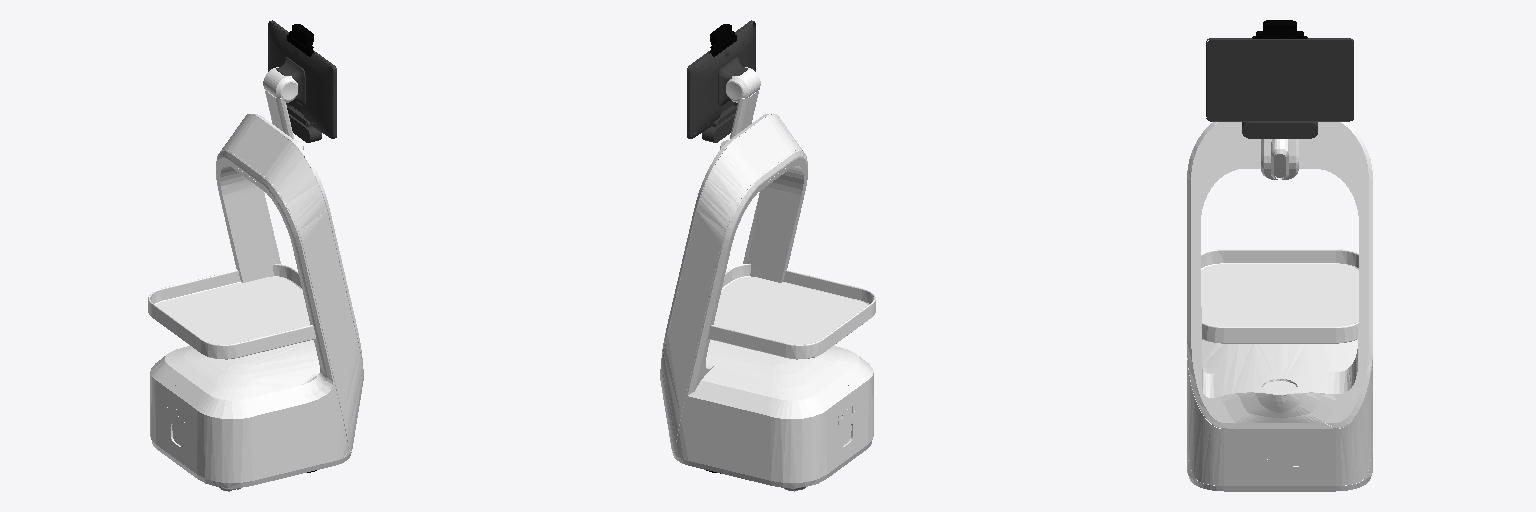
URDF robot description (robocat):
<?xml version="1.0" ?><!-- =================================================================================== --><!-- |    This document was autogenerated by xacro from /opt/pal/alum/share/robocat_description/robots/robocat.urdf.xacro | --><!-- |    EDITING THIS FILE BY HAND IS NOT RECOMMENDED                                 | --><!-- =================================================================================== --><!--
Copyright (c) 2026 PAL Robotics S.L. All rights reserved. Licensed under the Apache License, Version 2.0 (the "License"); you may not use this file except in compliance with the License. You may obtain a copy of the License at
http://www.apache.org/licenses/LICENSE-2.0
Unless required by applicable law or agreed to in writing, software distributed under the License is distributed on an "AS IS" BASIS, WITHOUT WARRANTIES OR CONDITIONS OF ANY KIND, either express or implied. See the License for the specific language governing permissions and limitations under the License. --><robot name="robocat"><material name="Blue"><color rgba="0.0 0.0 0.8 1.0"/></material><material name="Green"><color rgba="0.0 0.8 0.0 1.0"/></material><material name="Grey"><color rgba="0.7 0.7 0.7 1.0"/></material><material name="LightGrey"><color rgba="0.9 0.9 0.9 1.0"/></material><material name="DarkGrey"><color rgba="0.1 0.1 0.1 1.0"/></material><material name="Red"><color rgba="0.8 0.0 0.0 1.0"/></material><material name="White"><color rgba="1.0 1.0 1.0 1.0"/></material><material name="Yellow"><color rgba="0.96 0.88 0.14 1.0"/></material><material name="Black"><color rgba="0.0 0.0 0.0 1.0"/></material><material name="FlatBlack"><color rgba="0.09 0.09 0.09 1.0"/></material><material name="Orange"><color rgba="1.0 0.487 0.0 1.0"/></material><material name="pal/Orange"><color rgba="0.91373 0.61568 0.29411 1.0"/></material><material name="pal/DarkGrey"><color rgba="0.29804 0.29804 0.29804 1"/></material><ros2_control name="ros2_control_robocat_system" type="system"><hardware><plugin>robot_control/RobotControl</plugin></hardware><joint name="wheel_right_joint"><command_interface name="velocity"/><state_interface name="position"/></joint><transmission name="wheel_right_trans"><plugin>transmission_interface/SimpleTransmission</plugin><actuator name="wheel_right_actuator" role="actuator1"/><joint name="wheel_right_joint" role="joint1"><mechanical_reduction>1.0</mechanical_reduction><offset>0.0</offset></joint></transmission><joint name="wheel_left_joint"><command_interface name="velocity"/><state_interface name="position"/></joint><transmission name="wheel_left_trans"><plugin>transmission_interface/SimpleTransmission</plugin><actuator name="wheel_left_actuator" role="actuator1"/><joint name="wheel_left_joint" role="joint1"><mechanical_reduction>1.0</mechanical_reduction><offset>0.0</offset></joint></transmission><joint name="head_joint"><command_interface name="position"/><state_interface name="position"/><state_interface name="velocity"/><state_interface name="effort"/></joint><transmission name="head_trans"><plugin>transmission_interface/SimpleTransmission</plugin><actuator name="head_actuator" role="actuator1"/><joint name="head_joint" role="joint1"><offset>0.0</offset><mechanicalReduction>1</mechanicalReduction></joint></transmission></ros2_control><!-- BASE LINK --><link name="base_link"><inertial><origin rpy="0 0 0" xyz="-0.06303 0.0001 0.13708"/><mass value="29.37245"/><inertia ixx="2.189436" ixy="-0.002431" ixz="-0.262195" iyy="2.193107" iyz="-0.010879" izz="0.645577"/></inertial><visual><origin rpy="0 0 0" xyz="0 0 0"/><geometry><mesh filename="package://robocat_description/meshes/robocat_base_link.obj"/></geometry><material name=""><color rgba="1 1 1 1"/></material></visual><collision><origin rpy="0 0 0" xyz="0 0 0"/><geometry><mesh filename="package://robocat_description/meshes/collisions/base_link_collision.stl"/></geometry><material name=""><color rgba="1 1 1 1"/></material></collision></link><!-- DOCKING LINK --><link name="docking_link"/><joint name="docking_joint" type="fixed"><parent link="base_link"/><child link="docking_link"/><origin rpy="0 0 6.283185307179586" xyz="-0.29 0 0.030539"/></joint><!-- Caster wheel characteristics --><link name="wheel_right_link"><inertial><origin rpy="0 0 0" xyz="-6.7466E-06 0.00019427 -1.3878E-17"/><mass value="1.82362"/><inertia ixx="0.00499743171" ixy="4.464e-08" ixz="-0.00000002245" iyy="0.00499741733" iyz="-1.64e-09" izz="0.00839239692"/></inertial><visual><origin rpy="0 0 0" xyz="0 0 0"/><geometry><mesh filename="package://robocat_description/meshes/robocat_front_wheel.stl"/></geometry><material name="Black"/></visual><collision><origin rpy="0 0 0" xyz="0 0 0"/><geometry><cylinder length="0.05" radius="0.10"/></geometry></collision><kinematic>0</kinematic><gravity>1</gravity></link><joint name="wheel_right_joint" type="continuous"><parent link="base_link"/><child link="wheel_right_link"/><origin rpy="1.5707963267948966 0 0" xyz="0 -0.125 0"/><axis xyz="0 0 -1"/><limit effort="6.0" velocity="100.0"/></joint><link name="wheel_left_link"><inertial><origin rpy="0 0 0" xyz="-6.7466E-06 0.00019427 -1.3878E-17"/><mass value="1.82362"/><inertia ixx="0.00499743171" ixy="-4.464e-08" ixz="-0.00000002245" iyy="0.00499741733" iyz="1.64e-09" izz="0.00839239692"/></inertial><visual><origin rpy="0 0 0" xyz="0 0 0"/><geometry><mesh filename="package://robocat_description/meshes/robocat_front_wheel.stl"/></geometry><material name="Black"/></visual><collision><origin rpy="0 0 0" xyz="0 0 0"/><geometry><cylinder length="0.05" radius="0.10"/></geometry></collision><kinematic>0</kinematic><gravity>1</gravity></link><joint name="wheel_left_joint" type="continuous"><parent link="base_link"/><child link="wheel_left_link"/><origin rpy="1.5707963267948966 0 0" xyz="0 0.125 0"/><axis xyz="0 0 -1"/><limit effort="6.0" velocity="100.0"/></joint><link name="caster_right_link"><inertial><origin rpy="0 0 0" xyz="1.4445e-06 0.016213 -0.00019766"/><mass value="0.24242"/><inertia ixx="0.0002099" ixy="-5.5806e-09" ixz="-6.9375E-11" iyy="0.00020239" iyz="-2.6771e-09" izz="0.00025496"/></inertial><visual><origin rpy="0 0 0" xyz="0 0 0"/><geometry><mesh filename="package://robocat_description/meshes/robocat_caster_wheel_link.stl"/></geometry><material name="Grey"/></visual><collision><origin rpy="0 0 0" xyz="0 0 0"/><geometry><mesh filename="package://robocat_description/meshes/collisions/rear_wheel.stl"/></geometry></collision></link><joint name="caster_right_joint" type="fixed"><parent link="base_link"/><child link="caster_right_link"/><origin rpy="1.5707963267948966 0 0" xyz="-0.217 -0.132 -0.0391"/><axis xyz="0 0 -1"/></joint><gazebo reference="caster_right_link"><kp>1000000.0</kp><kd>1000.0</kd><mu1>0.01</mu1><mu2>0.01</mu2><fdir1>1 0 0</fdir1><maxVel>1.0</maxVel><minDepth>0.00</minDepth><implicitSpringDamper>0</implicitSpringDamper><material>Gazebo/DarkGrey</material></gazebo><link name="caster_left_link"><inertial><origin rpy="0 0 0" xyz="-1.4445e-06 0.016213 0.00019766"/><mass value="0.24242"/><inertia ixx="0.0002099" ixy="5.5806e-09" ixz="-6.9375E-11" iyy="0.00020239" iyz="2.6771e-09" izz="0.00025496"/></inertial><visual><origin rpy="0 0 0" xyz="0 0 0"/><geometry><mesh filename="package://robocat_description/meshes/robocat_caster_wheel_link.stl"/></geometry><material name="Grey"/></visual><collision><origin rpy="0 0 0" xyz="0 0 0"/><geometry><mesh filename="package://robocat_description/meshes/collisions/rear_wheel.stl"/></geometry></collision></link><joint name="caster_left_joint" type="fixed"><parent link="base_link"/><child link="caster_left_link"/><origin rpy="1.5707963267948966 0 0" xyz="-0.217 0.132 -0.0391"/><axis xyz="0 0 -1"/></joint><gazebo reference="caster_left_link"><kp>1000000.0</kp><kd>1000.0</kd><mu1>0.01</mu1><mu2>0.01</mu2><fdir1>1 0 0</fdir1><maxVel>1.0</maxVel><minDepth>0.00</minDepth><implicitSpringDamper>0</implicitSpringDamper><material>Gazebo/DarkGrey</material></gazebo><!-- BASE FOOTPRINT --><link name="base_footprint"/><joint name="base_footprint_joint" type="fixed"><origin rpy="0 0 0" xyz="0 0 0.1"/><parent link="base_footprint"/><child link="base_link"/></joint><material name="aluminum"><color rgba="0.5 0.5 0.5 1"/></material><material name="plastic"><color rgba="0.1 0.1 0.1 1"/></material><!-- HEAD LINK --><link name="head_link"><inertial><mass value="0.01"/><origin xyz="0 0 0"/></inertial></link><joint name="head_joint" type="revolute"><origin rpy="-1.5707963267948966 0 0" xyz="0.0 0.0 0.878"/><parent link="base_link"/><child link="head_link"/><axis xyz="0 0 -1"/><limit effort="5.197" lower="0" upper="45" velocity="3.0"/><dynamics damping="0.5" friction="1.0"/><safety_controller k_position="20" k_velocity="20" soft_lower_limit="0.07" soft_upper_limit="0.7153981633974482"/></joint><gazebo reference="head_joint"><implicitSpringDamper>1</implicitSpringDamper></gazebo><!-- SCREEN LINK --><link name="screen_link"><inertial><origin rpy="0 0 0" xyz="0.02 0.027 0"/><mass value="0.377"/><inertia ixx="0.004256348" ixy="0.0" ixz="0.0" iyx="0.0" iyy="0.003084239" iyz="0.0" izx="0.0" izy="0.0" izz="0.001218049"/></inertial><visual><origin rpy="0 0 0" xyz="0 0 0"/><geometry><mesh filename="package://robocat_description/meshes/robocat_screen.obj"/></geometry><material name=""><color rgba="0.29804 0.29804 0.29804 1"/></material></visual><collision><origin rpy="0 0 0" xyz="-0.04 0.025 0.0"/><geometry><mesh filename="package://robocat_description/meshes/collisions/robocat_screen.stl"/></geometry></collision></link><joint name="screen_joint" type="fixed"><origin rpy="0 0 0" xyz="0.04 -0.027 0"/><parent link="head_link"/><child link="screen_link"/></joint><link name="elo_link"><inertial><origin rpy="1.57 0 0" xyz="0 0 0.0155 "/><mass value="0.095566"/><inertia ixx="0.00006208" ixy="0" ixz="0" iyy="0.000035021" iyz="0" izz="0.00003341"/></inertial><visual><origin rpy="1.57 0 0" xyz="0.0 0.0 0.0 "/><geometry><mesh filename="package://robocat_description/meshes/robocat_elo_camera.stl"/></geometry><material name=""><color rgba="0.05 0.05 0.05 1"/></material></visual></link><joint name="elo_joint" type="fixed"><origin rpy="0 0 0" xyz="0.018 -0.0625 0.0 "/><parent link="screen_link"/><child link="elo_link"/></joint><gazebo reference="elo_link"><material>Gazebo/FlatBlack</material><sensor name="elo_camera_sim" type="camera"><always_on>true</always_on><update_rate>30</update_rate><camera><horizontal_fov>1.047</horizontal_fov><image><width>640</width><height>480</height><format>R8G8B8</format></image><clip><near>0.01</near><far>10</far></clip></camera><plugin filename="libgazebo_ros_camera.so" name="elo"/></sensor></gazebo><link name="elo_lens_link"><inertial><origin rpy="0 0 0" xyz="0.006 -0.033 0.010968"/></inertial></link><joint name="elo_lens_joint" type="fixed"><origin rpy="0 1.57 0" xyz="0.006 -0.033 0.010968"/><parent link="elo_link"/><child link="elo_lens_link"/></joint><link name="sellion_link"/><joint name="sellion_joint" type="fixed"><origin rpy="1.5708 0 0" xyz="0 0 0"/><child link="sellion_link"/><parent link="screen_link"/></joint><link name="eye_right_link"/><joint name="eye_right_joint" type="fixed"><origin rpy="0 0 0" xyz="0.0 -0.1 0"/><child link="eye_right_link"/><parent link="sellion_link"/></joint><link name="eye_left_link"/><joint name="eye_left_joint" type="fixed"><origin rpy="0 0 0" xyz="0 0.1 0"/><child link="eye_left_link"/><parent link="sellion_link"/></joint><!-- SENSORS--><!-- camera body, with origin at bottom screw mount --><joint name="front_camera_joint" type="fixed"><origin rpy="1.5707963267948966 0.4363323129985824 0" xyz="0.0265 0.012 0.669"/><parent link="base_link"/><child link="front_camera_bottom_screw_frame"/></joint><link name="front_camera_bottom_screw_frame"/><joint name="front_camera_link_joint" type="fixed"><origin rpy="0 0 0" xyz="0.010600000000000002 0.0175 0.0125"/><parent link="front_camera_bottom_screw_frame"/><child link="front_camera_link"/></joint><link name="front_camera_link"><visual><!-- the mesh origin is at front plate in between the two infrared camera axes --><origin rpy="1.5707963267948966 0 1.5707963267948966" xyz="0.0043 -0.0175 0"/><geometry><mesh filename="file:///opt/ros/humble/share/realsense2_description/meshes/d435.dae"/></geometry></visual><collision><origin rpy="0 0 0" xyz="0 -0.0175 0"/><geometry><box size="0.02505 0.09 0.025"/></geometry></collision><inertial><!-- The following are not reliable values, and should not be used for modeling --><mass value="0.072"/><origin xyz="0 0 0"/><inertia ixx="0.003881243" ixy="0.0" ixz="0.0" iyy="0.000498940" iyz="0.0" izz="0.003879257"/></inertial></link><gazebo reference="front_camera_link"><sensor name="front_camera" type="depth"><camera name="front_camera"><horizontal_fov>1.4870205226991688</horizontal_fov><vertical_fov>1.0122909661567112</vertical_fov><always_on>true</always_on><update_rate>30</update_rate><visualize>true</visualize><image><format>B8G8R8</format><width>848</width><height>480</height></image><clip><near>0.3</near><far>3.0</far></clip><noise><type>gaussian</type><mean>0.0</mean><stddev>0.100</stddev></noise></camera><plugin filename="libgazebo_ros_camera.so" name="front_camera"><frame_name>front_camera_depth_optical_frame</frame_name><min_depth>0.1</min_depth><max_depth>10.0</max_depth><ros><namespace></namespace><remapping>front_camera/image_raw:=front_camera/color/image_raw</remapping><remapping>front_camera/camera_info:=front_camera/color/camera_info</remapping><remapping>front_camera/image_raw/compressed:=front_camera/color/image_raw/compressed</remapping><remapping>front_camera/image_raw/compressedDepth:=front_camera/color/image_raw/compressedDepth</remapping><remapping>front_camera/image_raw/theora:=front_camera/color/image_raw/theora</remapping><remapping>front_camera/points:=front_camera/depth/color/points</remapping><remapping>front_camera/depth/image_raw:=front_camera/depth/image_rect_raw</remapping><remapping>front_camera/depth/image_raw/compressed:=front_camera/depth/image_rect_raw/compressed</remapping><remapping>front_camera/depth/image_raw/compressedDepth:=front_camera/depth/image_rect_raw/compressedDepth</remapping><remapping>front_camera/depth/image_raw/theora:=front_camera/depth/image_rect_raw/theora</remapping><qos><topic name="front_camera/color/image_raw"><publisher><reliability>best_effort</reliability><durability>volatile</durability><history depth="1">keep_last</history><liveliness>automatic</liveliness></publisher></topic><topic name="front_camera/color/camera_info"><publisher><reliability>best_effort</reliability><durability>volatile</durability><history depth="1">keep_last</history><liveliness>automatic</liveliness></publisher></topic><topic name="front_camera/color/image_raw/compressed"><publisher><reliability>best_effort</reliability><durability>volatile</durability><history depth="1">keep_last</history><liveliness>automatic</liveliness></publisher></topic><topic name="front_camera/color/image_raw/compressedDepth"><publisher><reliability>best_effort</reliability><durability>volatile</durability><history depth="1">keep_last</history><liveliness>automatic</liveliness></publisher></topic><topic name="front_camera/color/image_raw/theora"><publisher><reliability>best_effort</reliability><durability>volatile</durability><history depth="1">keep_last</history><liveliness>automatic</liveliness></publisher></topic><topic name="front_camera/depth/camera_info"><publisher><reliability>best_effort</reliability><durability>volatile</durability><history depth="1">keep_last</history><liveliness>automatic</liveliness></publisher></topic><topic name="front_camera/depth/color/points"><publisher><reliability>best_effort</reliability><durability>volatile</durability><history depth="1">keep_last</history><liveliness>automatic</liveliness></publisher></topic><topic name="front_camera/depth/image_rect_raw"><publisher><reliability>best_effort</reliability><durability>volatile</durability><history depth="1">keep_last</history><liveliness>automatic</liveliness></publisher></topic><topic name="front_camera/depth/image_rect_raw/compressed"><publisher><reliability>best_effort</reliability><durability>volatile</durability><history depth="1">keep_last</history><liveliness>automatic</liveliness></publisher></topic><topic name="front_camera/depth/image_rect_raw/compressedDepth"><publisher><reliability>best_effort</reliability><durability>volatile</durability><history depth="1">keep_last</history><liveliness>automatic</liveliness></publisher></topic><topic name="front_camera/depth/image_rect_raw/theora"><publisher><reliability>best_effort</reliability><durability>volatile</durability><history depth="1">keep_last</history><liveliness>automatic</liveliness></publisher></topic></qos></ros></plugin></sensor></gazebo><link name="laser_link" type="laser"><inertial><origin rpy="0 0 0" xyz="-0.02559000000 -0.00056000000 -0.05732000000"/><mass value="0.28922000000"/><inertia ixx="0.00002628919" ixy="0.00000024298" ixz="-0.00000368129" iyy="0.00003374542" iyz="-0.00000001330" izz="0.00005832599"/></inertial><visual><origin rpy="0 0 0" xyz="0 0 0"/><geometry><mesh filename="package://pal_urdf_utils/meshes/laser/ydlidar.stl"/></geometry><material name="DarkGrey"/></visual><collision><origin rpy="0 0 0" xyz="0 0 0"/><geometry><mesh filename="package://pal_urdf_utils/meshes/laser/ydlidar.stl"/></geometry></collision></link><joint name="laser_joint" type="fixed"><axis xyz="0 1 0"/><origin rpy="0 0 0" xyz="0.113 0 0.19771"/><parent link="base_link"/><child link="laser_link"/></joint><gazebo reference="laser_link"><sensor name="laser" type="gpu_lidar"><update_rate>10</update_rate><topic>scan_raw</topic><gz_frame_id>laser_link</gz_frame_id><visualize>true</visualize><always_on>true</always_on><ray><scan><horizontal><!-- 818 (360/0.33) steps in 360deg fov --><samples>818.0</samples><resolution>1</resolution><!-- not the sensor resolution; just 1 --><min_angle>-3.141592653589793</min_angle><max_angle>3.141592653589793</max_angle></horizontal></scan><range><min>0.05</min><max>30.0</max><resolution>0.001</resolution></range><noise><type>gaussian</type><mean>0.0</mean><stddev>0.01</stddev></noise></ray><plugin filename="libgazebo_ros_ray_sensor.so" name="laser"><ros><namespace></namespace><remapping>~/out:=scan_raw</remapping></ros><output_type>sensor_msgs/LaserScan</output_type><frame_name>laser_link</frame_name></plugin></sensor><material>Gazebo/DarkGrey</material></gazebo></robot>

--- Facts derived from the render (not from the file) ---
The picture shows the robot from 3 angles, left to right: view 1: azimuth 30°, elevation 25°; view 2: azimuth 150°, elevation 25°; view 3: azimuth 270°, elevation 25°; orthographic projection.
Robot: robocat — 17 links, 16 joints (1 revolute, 2 continuous, 13 fixed); root link base_footprint; default pose: every joint at zero.
Links seen in each view (by area): view 1: base_link, screen_link, elo_link; view 2: base_link, screen_link, elo_link; view 3: base_link, screen_link, elo_link.
Boxes of the visible links, x1,y1,x2,y2 form: base_link: (148,67,363,487); screen_link: (268,20,336,142); elo_link: (287,24,314,56); base_link: (660,67,875,487); screen_link: (687,20,755,142); elo_link: (709,24,736,56); base_link: (1187,122,1372,491); screen_link: (1206,38,1353,138); elo_link: (1252,20,1307,38).
Bounding box of the posed robot: 0.4541 × 0.4004 × 1.12 m (x, y, z).
7 mesh visuals loaded from 6 distinct referenced files (3 binary STL, 2 OBJ); not drawn: 1 (reference not matched to a file when rendering), 1 (reference in a form the renderer does not follow; not among the files counted above).
